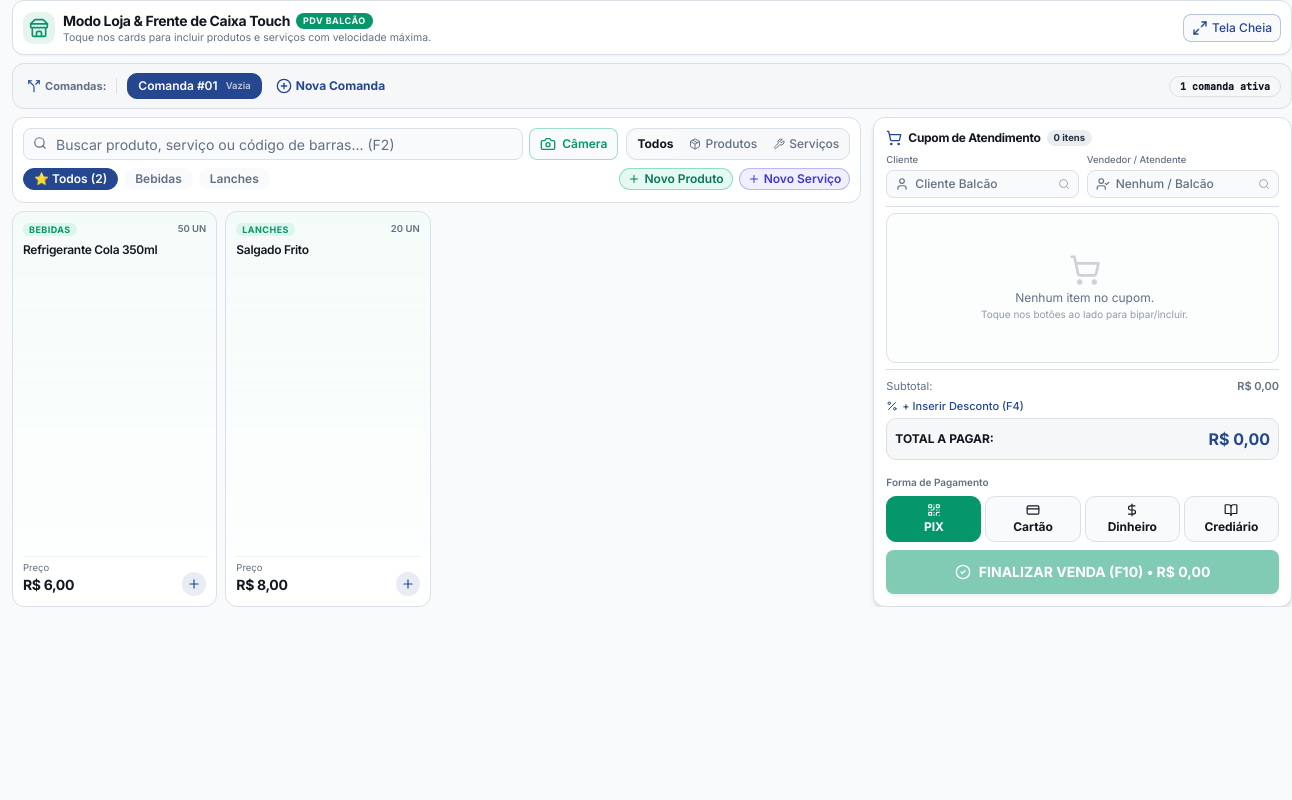
Scenario: StorePos: Modo Comandas & Crediário Próprio › renders Comandas bar and allows opening new comandas
The width and height of the screenshot is (1292, 800).
expect the heading "Refrigerante Cola 350ml" is shown: met, box [23,242,157,257]
expect the text "Comandas:" is shown: met, box [45,78,106,94]
Click "Nova Comanda"
Click the button "Nova Comanda".
click(330, 86)  # box [268,72,393,100]
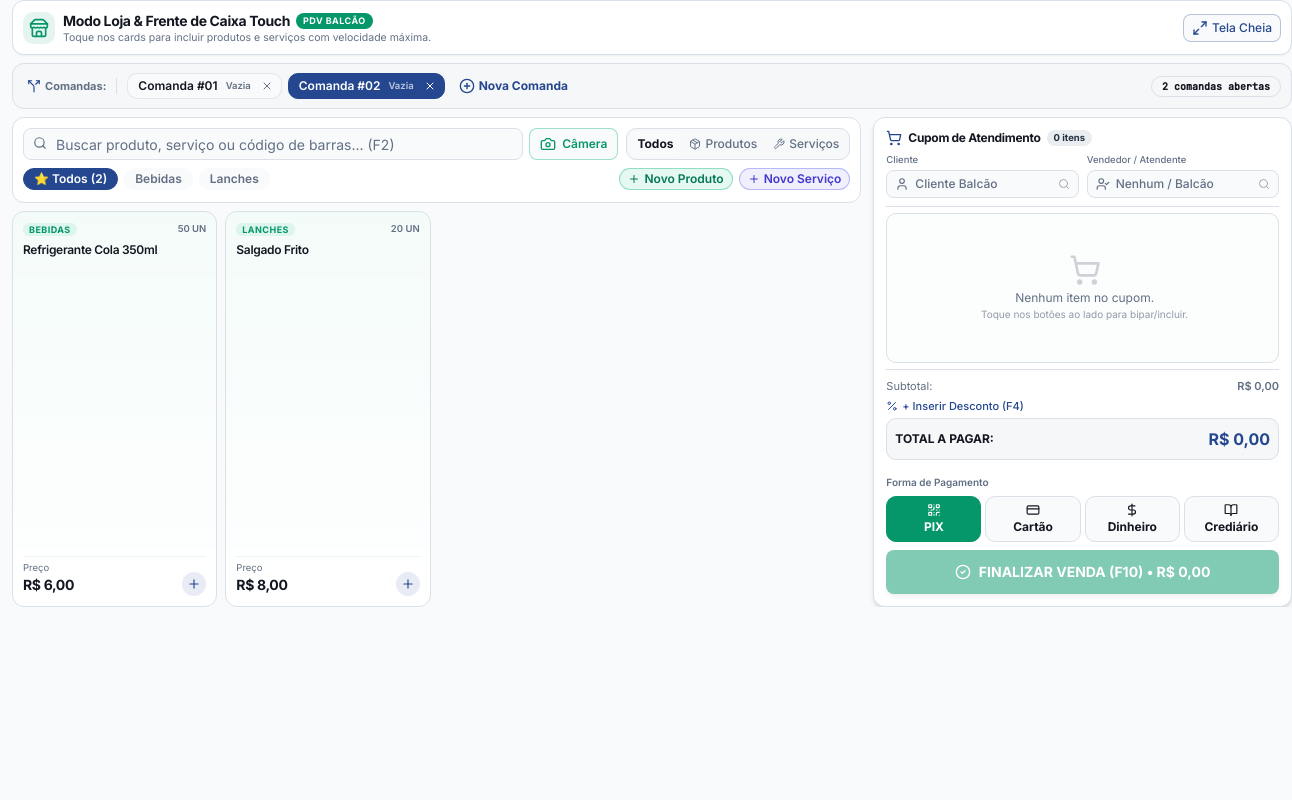
expect the text "Comanda #02" is shown: met, box [299,78,380,94]
